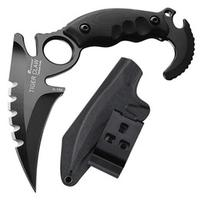knife: (7, 1, 179, 197)
